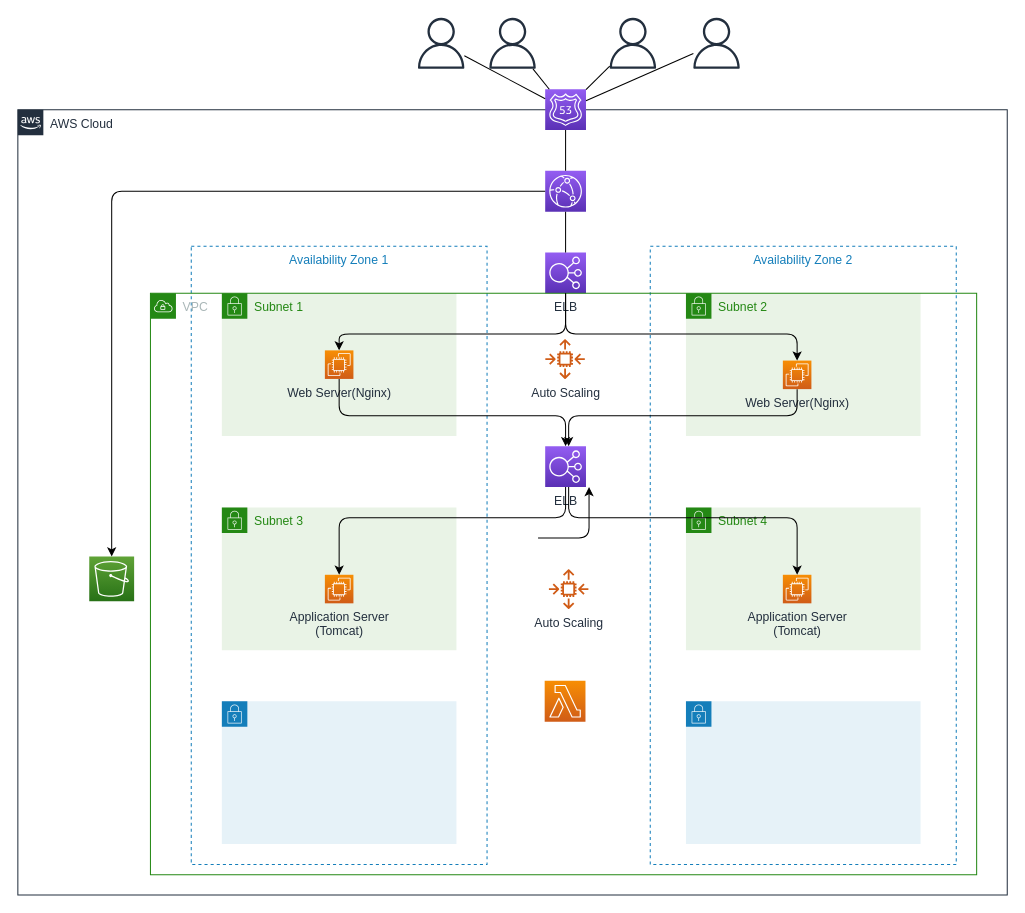
Image size: 1025x913. Some labels were removed from this diagram. Each missing label, with the centre of its shape:
"CDN(Cloud Front)" goes at point (565, 191).
"DNS(Route 53)" goes at point (565, 109).
"Lambda" goes at point (564, 701).
"Storage(S3)" goes at point (111, 578).
"Subnet 5" goes at point (338, 772).
"Subnet 6" goes at point (803, 772).
